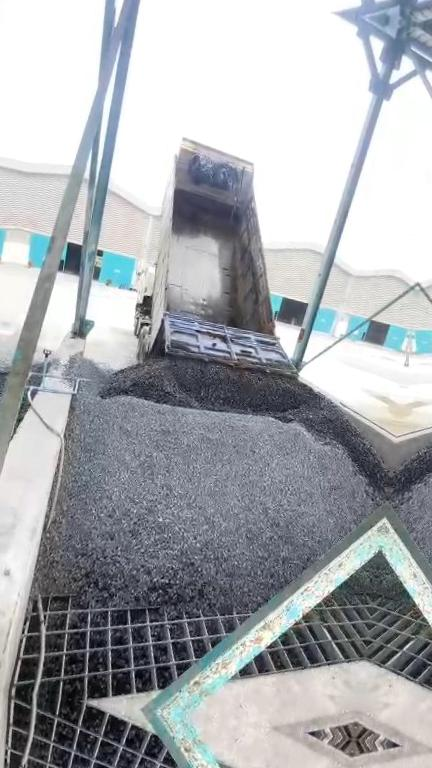gravel: (38, 351, 391, 613), (317, 552, 380, 607), (225, 241, 241, 327), (9, 388, 31, 444), (0, 365, 11, 431)
sand: (352, 394, 401, 436)
